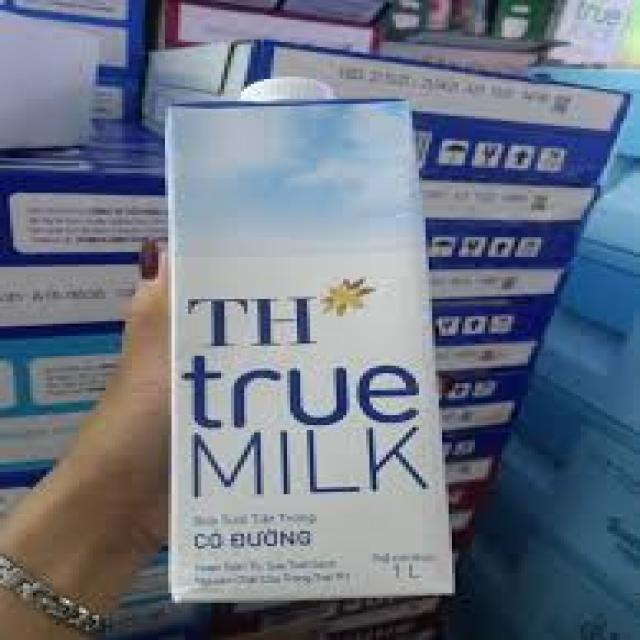non_white_jug: (119, 64, 501, 610)
